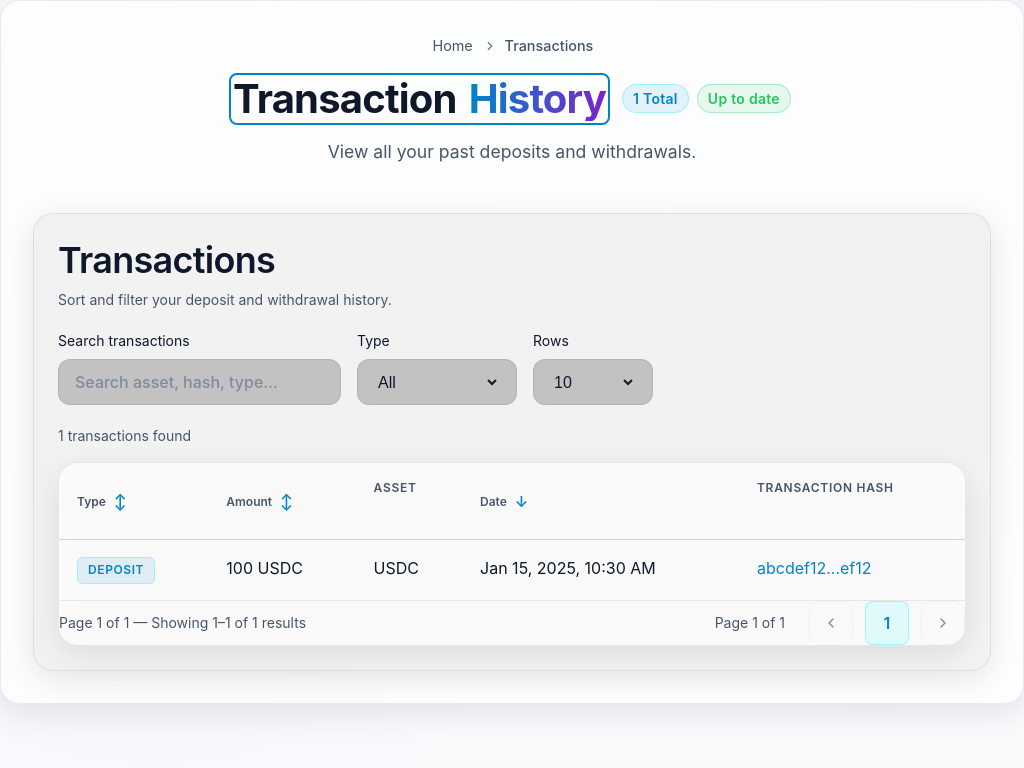
Test: TransactionHistory › shows filtered empty state message when filter yields no results
Expected: the table is shown, [59,463,965,600]
Step 1. Select "Withdrawal" in the dropdown named "Filter by type" → coordinates (437, 382), box [374,360,500,404]
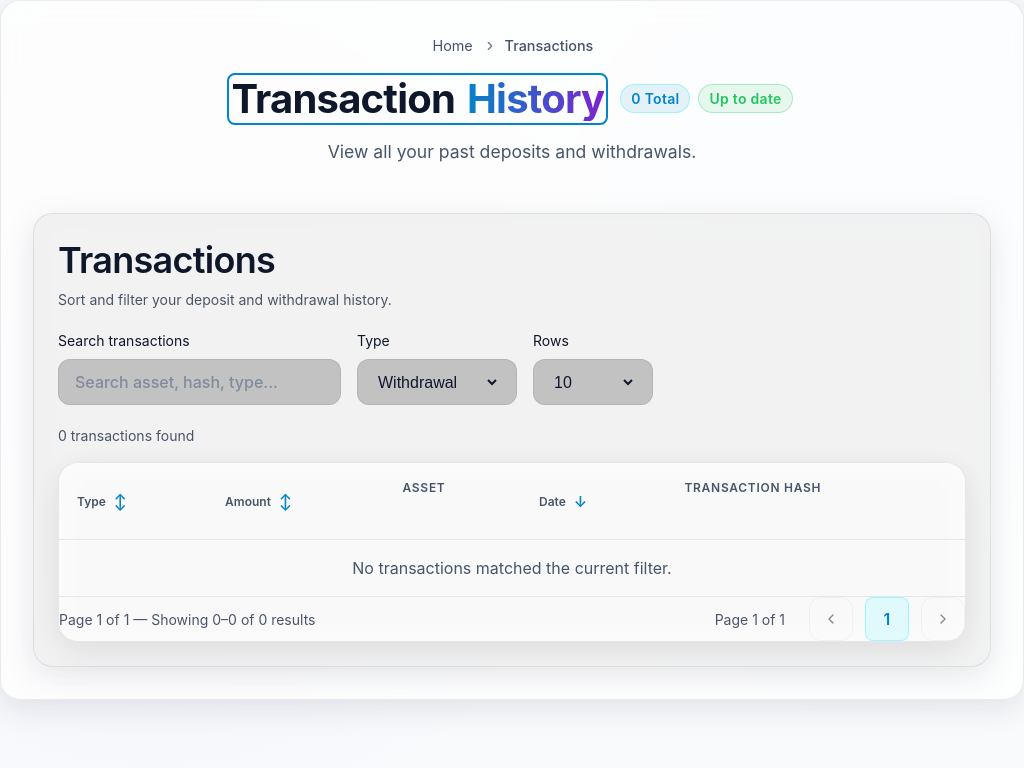
Expected: the text "No transactions matched the current filter." is shown, [59,540,965,596]
